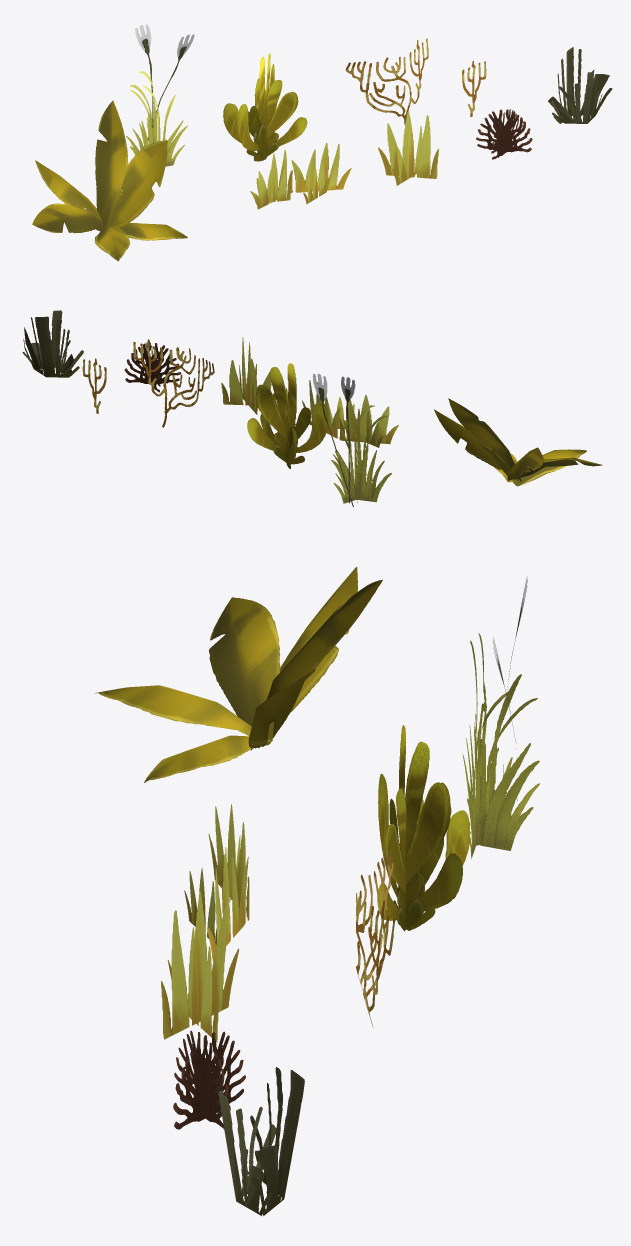
Rendered from DesertVegetation.FBX.
3 views of the same model, one above another, from view 1: azimuth 30°, elevation 25°; view 2: azimuth 150°, elevation 25°; view 3: azimuth 270°, elevation 25° (orthographic). The views are drawn at different scales.
Parts seen in each view (by area): view 1: DesertPlants_A, DesertPlants_E, DesertPlants_C, DesertPlants_J, DesertPlants_D, DesertPlants_B, DesertPlants_F, DesertPlants_I, DesertPlants_G; view 2: DesertPlants_E, DesertPlants_A, DesertPlants_B, DesertPlants_J, DesertPlants_C, DesertPlants_F, DesertPlants_D, DesertPlants_I, DesertPlants_G; view 3: DesertPlants_A, DesertPlants_E, DesertPlants_B, DesertPlants_J, DesertPlants_D, DesertPlants_C, DesertPlants_I, DesertPlants_F.
Part boxes in pixels (left/top/right/bottom): DesertPlants_A: left=32, top=100, right=187, bottom=261; DesertPlants_E: left=223, top=53, right=307, bottom=161; DesertPlants_C: left=250, top=142, right=351, bottom=209; DesertPlants_J: left=548, top=47, right=612, bottom=123; DesertPlants_D: left=378, top=110, right=438, bottom=185; DesertPlants_B: left=126, top=24, right=194, bottom=166; DesertPlants_F: left=345, top=38, right=428, bottom=124; DesertPlants_I: left=476, top=109, right=532, bottom=159; DesertPlants_G: left=462, top=60, right=486, bottom=116; DesertPlants_E: left=247, top=363, right=328, bottom=468; DesertPlants_A: left=434, top=398, right=602, bottom=486; DesertPlants_B: left=312, top=373, right=391, bottom=506; DesertPlants_J: left=22, top=310, right=83, bottom=377; DesertPlants_C: left=302, top=380, right=398, bottom=447; DesertPlants_F: left=133, top=339, right=214, bottom=427; DesertPlants_D: left=221, top=337, right=275, bottom=414; DesertPlants_I: left=124, top=342, right=181, bottom=392; DesertPlants_G: left=82, top=358, right=106, bottom=413; DesertPlants_A: left=95, top=567, right=382, bottom=782; DesertPlants_E: left=377, top=725, right=470, bottom=931; DesertPlants_B: left=462, top=576, right=540, bottom=858; DesertPlants_J: left=218, top=1067, right=304, bottom=1215; DesertPlants_D: left=161, top=891, right=239, bottom=1042; DesertPlants_C: left=184, top=804, right=249, bottom=960; DesertPlants_I: left=173, top=1030, right=245, bottom=1129; DesertPlants_F: left=356, top=850, right=394, bottom=1027.
Size of the model in its own units: 8.91 by 2.22 by 3.25.
